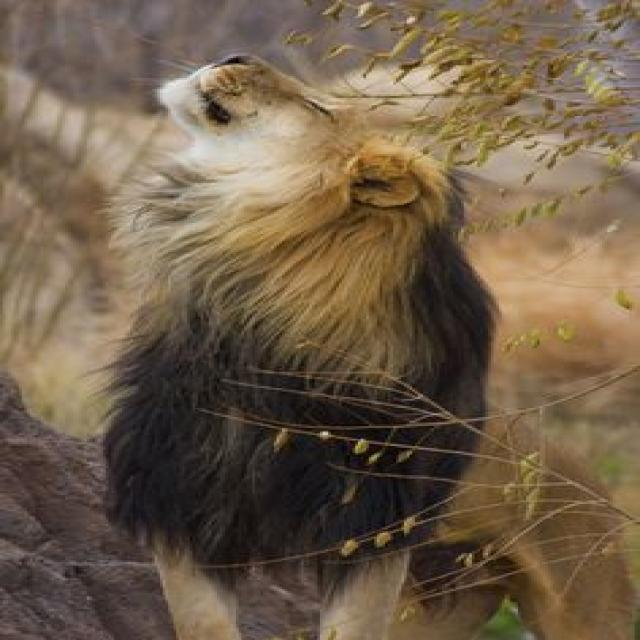Carnivorous: (98, 56, 504, 640)
